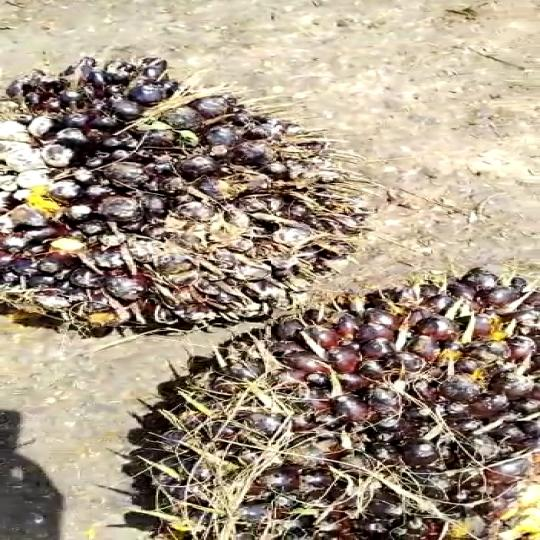mentah: (119, 262, 540, 540), (0, 45, 351, 343)
